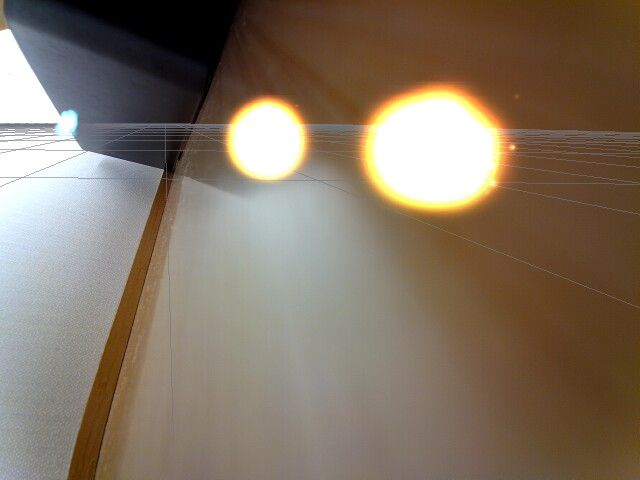firebig: (354, 78, 517, 221)
